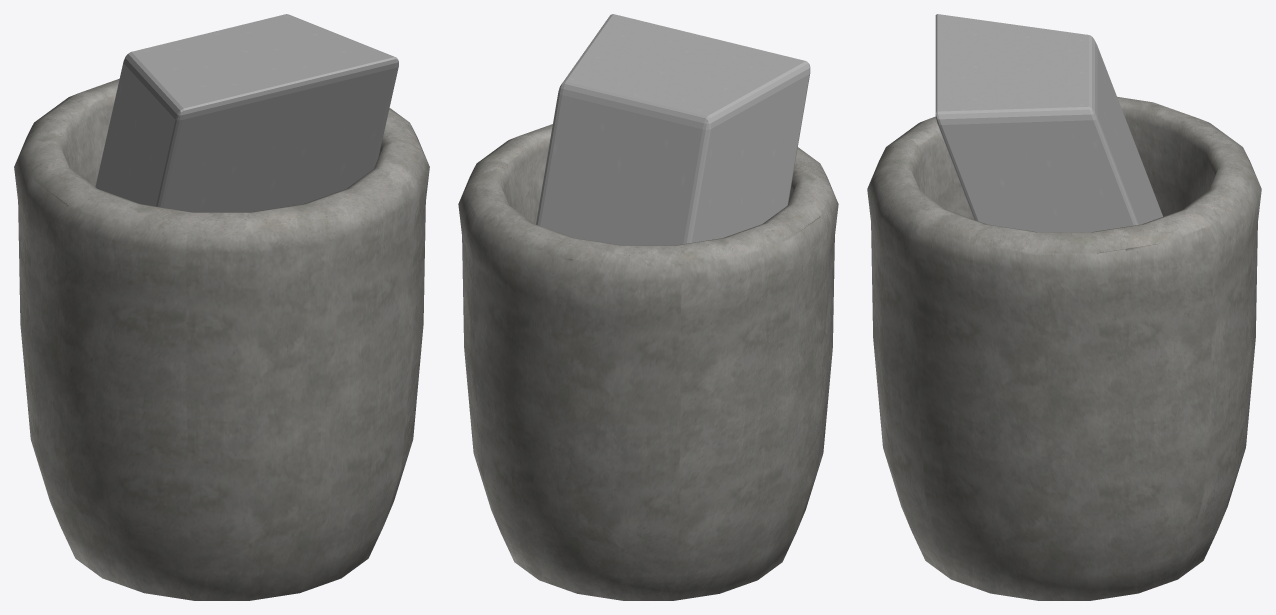
File: Crucible_IngotSilver.glb
The picture shows the model from 3 angles, left to right: view 1: azimuth 30°, elevation 25°; view 2: azimuth 150°, elevation 25°; view 3: azimuth 270°, elevation 25°; orthographic projection. The views are drawn at different scales.
Visible parts, largest first — view 1: Crucible_IngotSilver; view 2: Crucible_IngotSilver; view 3: Crucible_IngotSilver.
Boxes of the visible parts, x1,y1,x2,y2 form: Crucible_IngotSilver: [14, 14, 429, 600]; Crucible_IngotSilver: [458, 14, 838, 600]; Crucible_IngotSilver: [867, 14, 1261, 600].
Bounding box in the file's own units: 2.14 × 2.98 × 2.17.
1 material, 1 textured.
